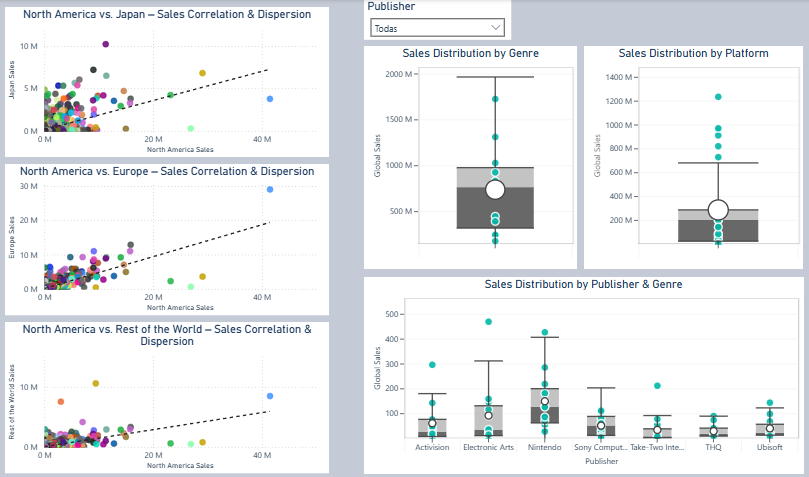

The dashboard page shown, as its layout file describes it:
{"tool":"powerbi","page":{"name":"Variability & Outliers","canvas":[1280,720],"ordinal":4},"visuals":[{"type":"BoxandWhiskerByMAQ1823AD39DT234AB532063E128AX","title":"Sales Distribution by Genre","fields":{"measure":["Sum(video_game_sales vgsales.global_sales)"],"category":["video_game_sales vgsales.genre"]},"box":[585.6,70.2,318.2,331.6],"z":0},{"type":"scatterChart","title":"North America vs. Europe – Sales Correlation & Dispersion","fields":{"X":["Max(video_game_sales vgsales.north_america_sales)"],"Series":["video_game_sales vgsales.name"],"Category":["video_game_sales vgsales.global_sales"],"Y":["Max(video_game_sales vgsales.europe_sales)"]},"box":[49.3,246.5,484,225.6],"z":1000},{"type":"BoxandWhiskerByMAQ1823AD39DT234AB532063E128AX","title":"Sales Distribution by Platform","fields":{"category":["video_game_sales vgsales.platform"],"measure":["Sum(video_game_sales vgsales.global_sales)"]},"box":[914.2,70.2,327.1,331.6],"z":2000},{"type":"scatterChart","title":"North America vs. Japan – Sales Correlation & Dispersion","fields":{"X":["Max(video_game_sales vgsales.north_america_sales)"],"Series":["video_game_sales vgsales.name"],"Category":["video_game_sales vgsales.global_sales"],"Y":["Max(video_game_sales vgsales.japan_sales)"]},"box":[49.3,12,484,224.1],"z":3000},{"type":"scatterChart","title":"North America vs. Rest of the World – Sales Correlation & Dispersion","fields":{"Category":["video_game_sales vgsales.global_sales"],"X":["Sum(video_game_sales vgsales.north_america_sales)"],"Y":["Sum(video_game_sales vgsales.other_sales)"],"Series":["video_game_sales vgsales.name"]},"box":[49.3,482.5,484,225.6],"z":4000},{"type":"slicer","title":"Publisher","fields":{"Values":["video_game_sales vgsales.publisher"]},"box":[585.6,0,219.6,61.2],"z":5000},{"type":"BoxandWhiskerByMAQ1823AD39DT234AB532063E128AX","title":"Sales Distribution by Publisher & Genre","fields":{"categoryGroup":["video_game_sales vgsales.publisher"],"category":["video_game_sales vgsales.genre"],"measure":["Sum(video_game_sales vgsales.global_sales)"]},"box":[585.6,415.3,655.8,292.8],"z":6000}]}

Visuals, with their boxes on the page's 1280x720 design canvas (x1, y1, x2, y2). These are canvas units, not pixel positions in the 809x477 screenshot, which may show the page scaled, cropped or inside an application window:
"Sales Distribution by Genre" BoxandWhiskerByMAQ1823AD39DT234AB532063E128AX: {"left": 586, "top": 70, "right": 904, "bottom": 402}
"North America vs. Europe – Sales Correlation & Dispersion" scatterChart: {"left": 49, "top": 246, "right": 533, "bottom": 472}
"Sales Distribution by Platform" BoxandWhiskerByMAQ1823AD39DT234AB532063E128AX: {"left": 914, "top": 70, "right": 1241, "bottom": 402}
"North America vs. Japan – Sales Correlation & Dispersion" scatterChart: {"left": 49, "top": 12, "right": 533, "bottom": 236}
"North America vs. Rest of the World – Sales Correlation & Dispersion" scatterChart: {"left": 49, "top": 482, "right": 533, "bottom": 708}
"Publisher" slicer: {"left": 586, "top": 0, "right": 805, "bottom": 61}
"Sales Distribution by Publisher & Genre" BoxandWhiskerByMAQ1823AD39DT234AB532063E128AX: {"left": 586, "top": 415, "right": 1241, "bottom": 708}
